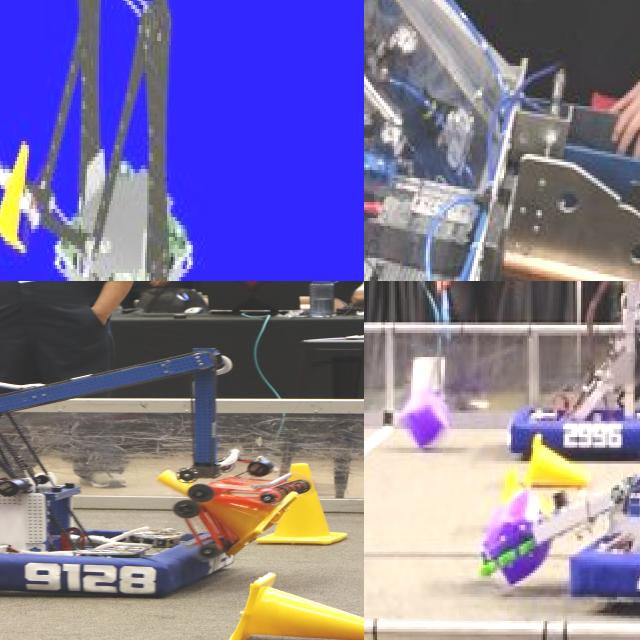FRC-Robots: (364, 0, 640, 281), (0, 360, 245, 640), (0, 0, 209, 281), (481, 281, 640, 472), (568, 281, 640, 638)
